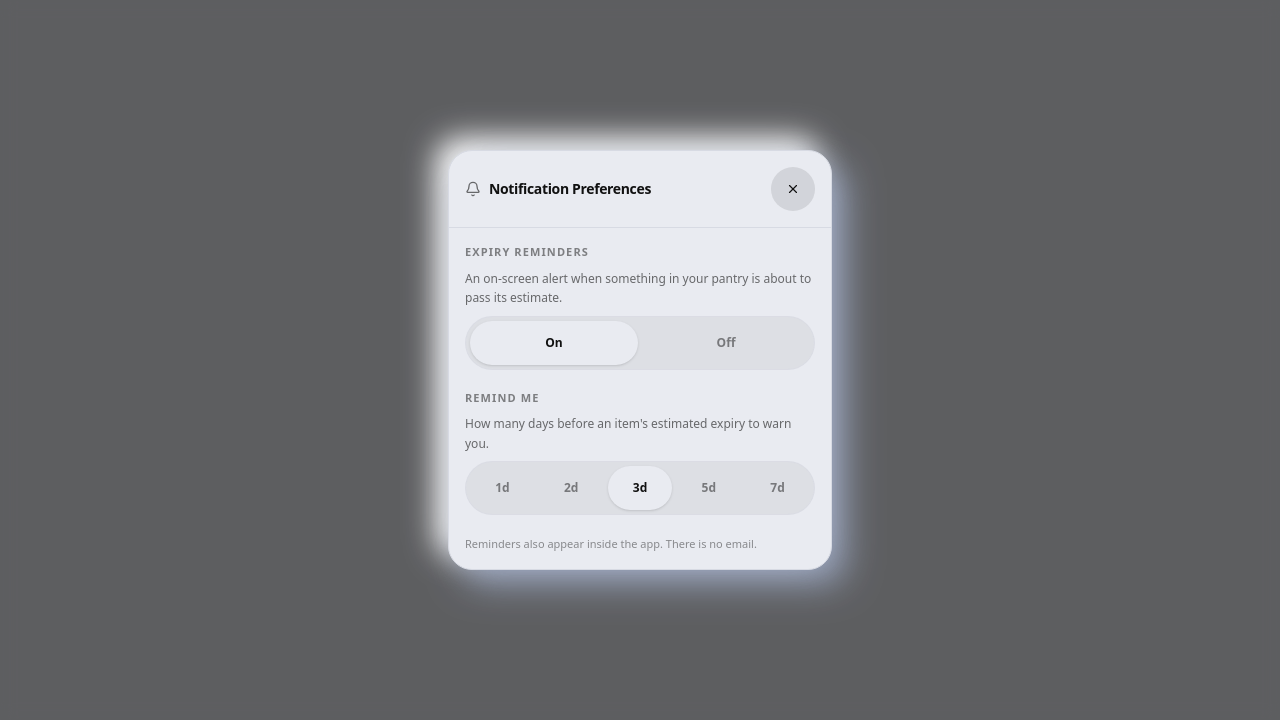
NotificationPreferencesModal — saving › shows an error and does not crash when the save fails
Click the button "Off": click(726, 343) [642,321,810,365]
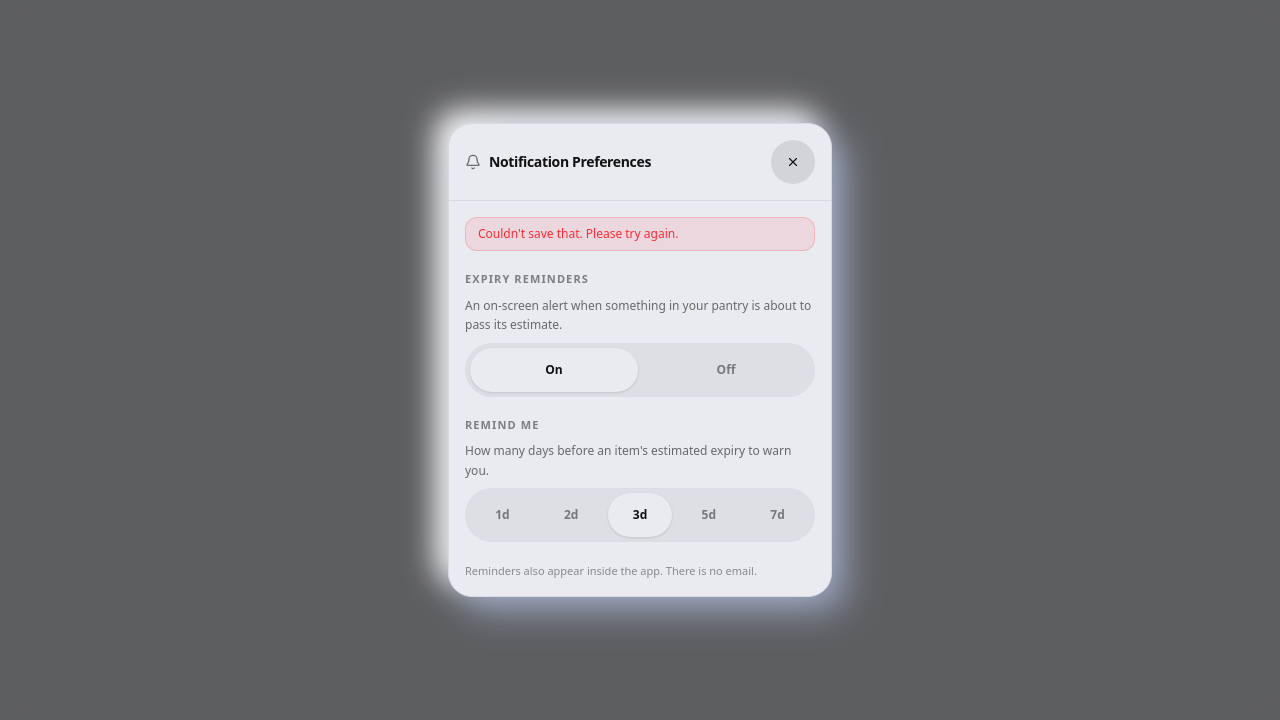
Expected: the text "Couldn't save that. Please try again." is shown, [478,225,678,242]
